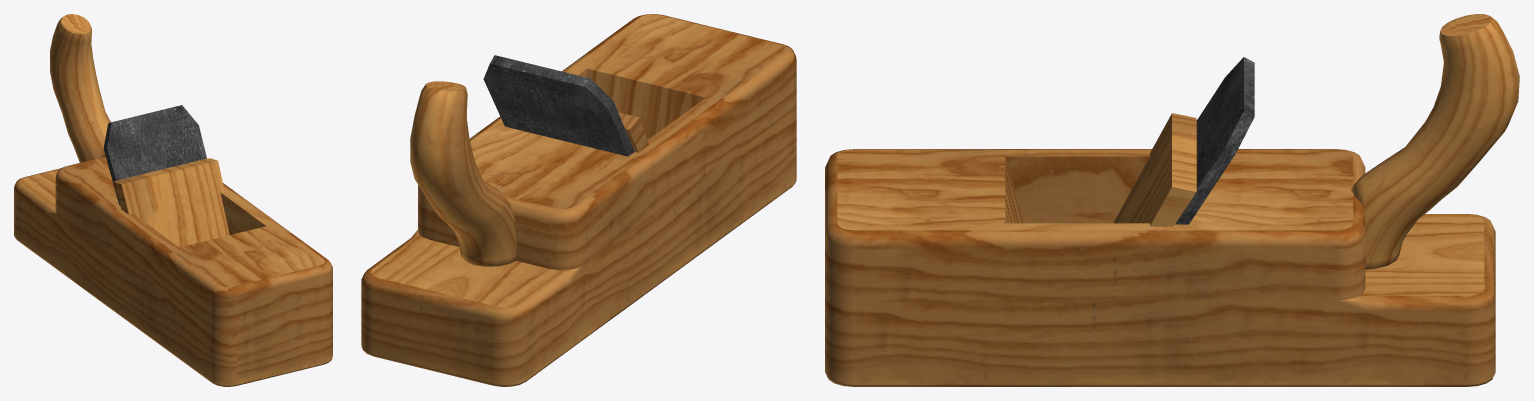
Rendered from UT2_VPlanner.fbx.
3 views of the same model, side by side, from view 1: azimuth 30°, elevation 25°; view 2: azimuth 150°, elevation 25°; view 3: azimuth 270°, elevation 25° (orthographic). The views are drawn at different scales.
Visible parts, largest first — view 1: Planner_Body, PlannerHandle; view 2: Planner_Body, PlannerHandle; view 3: Planner_Body, PlannerHandle.
Boxes of the visible parts, bbox=[...] form: Planner_Body: bbox=[14, 105, 332, 386]; PlannerHandle: bbox=[50, 14, 110, 162]; Planner_Body: bbox=[361, 14, 796, 386]; PlannerHandle: bbox=[410, 81, 516, 266]; Planner_Body: bbox=[825, 57, 1495, 386]; PlannerHandle: bbox=[1351, 14, 1519, 269].
Size of the model in its own units: 0.06 by 0.1018 by 0.1934.
Materials: 1 (1 with a texture image).
